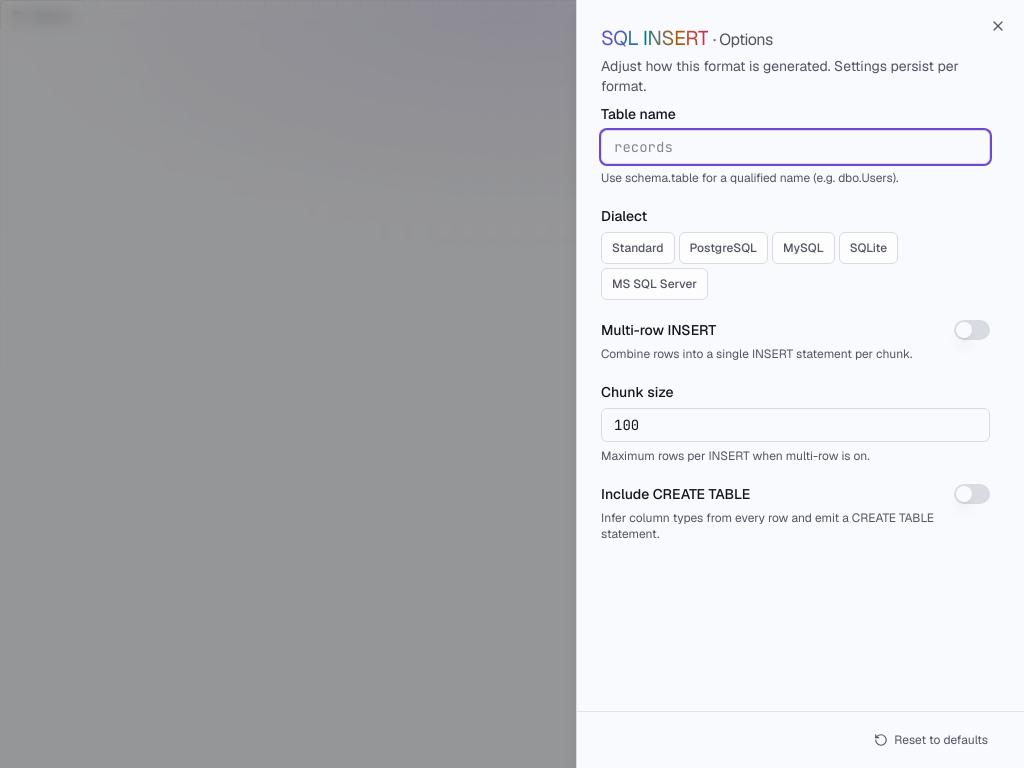
Scenario: SettingsPanel — integer fields › restores the committed value when left empty
Clear the number field labelled "Chunk size": (796, 425) [601,408,990,442]
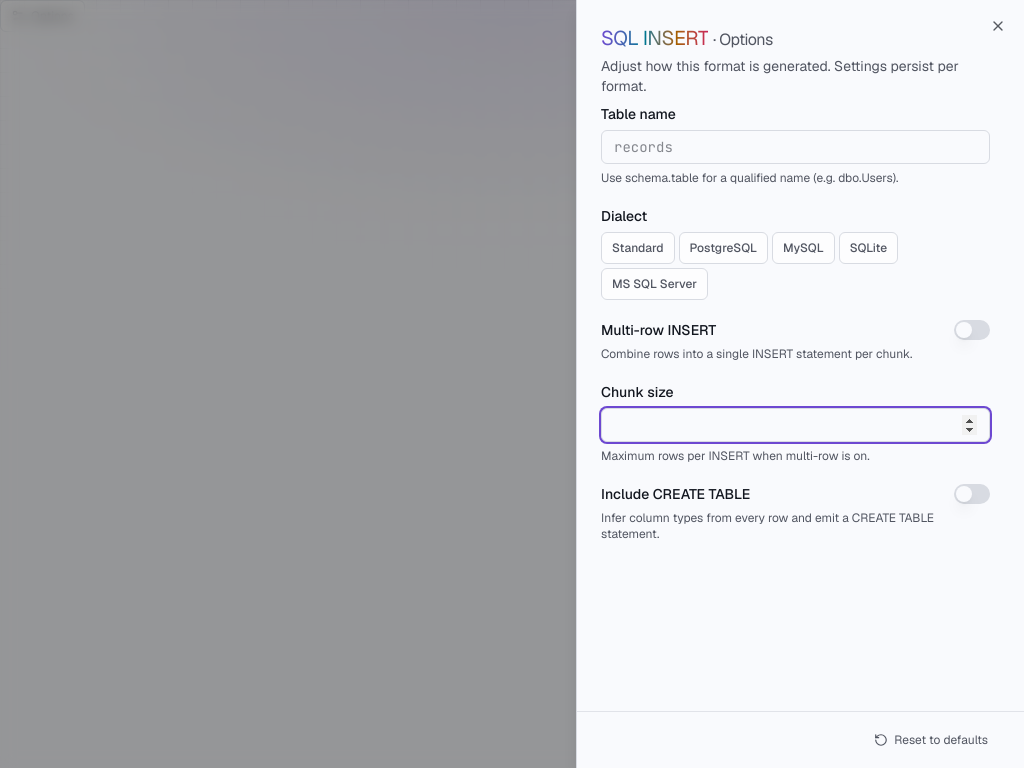
Press Tab
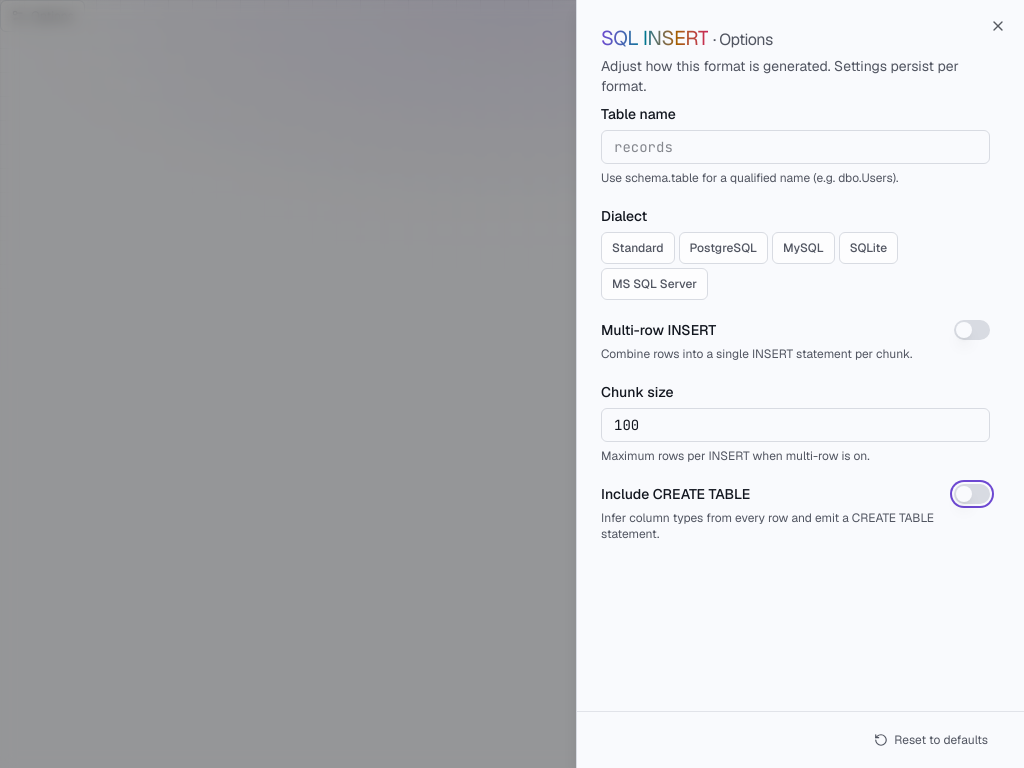
Now the number field labelled "Chunk size" holds "100", box [601,408,990,442]
